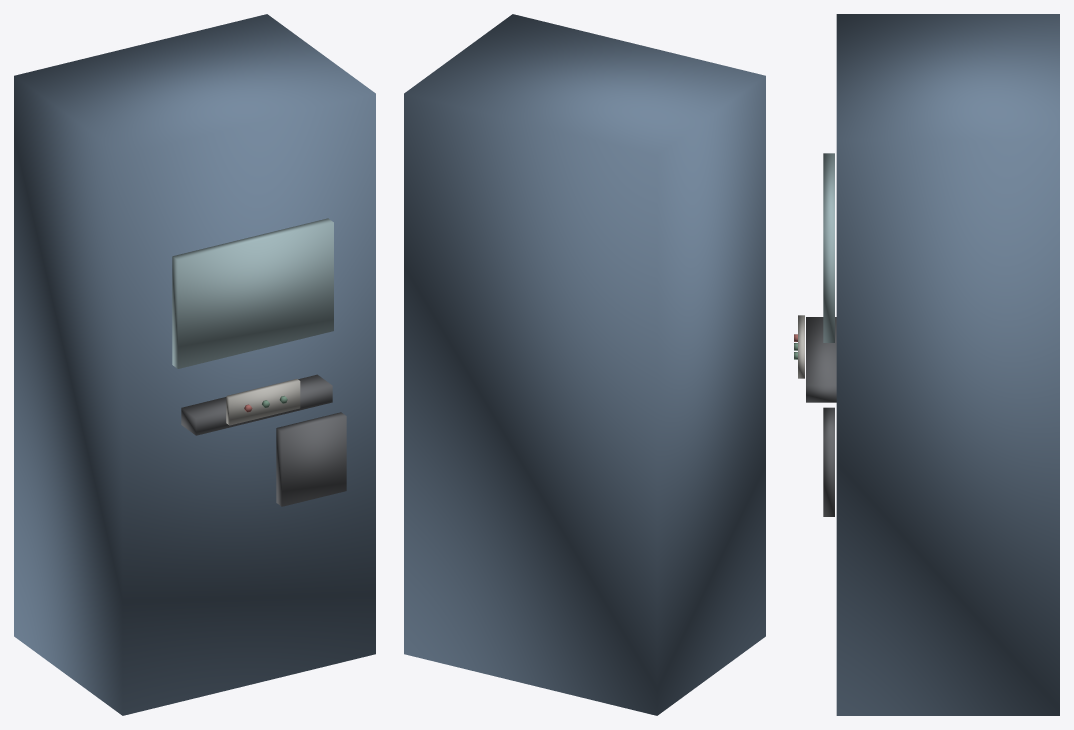
Rendered from atm.glb.
The picture shows the model from 3 angles, left to right: view 1: azimuth 30°, elevation 25°; view 2: azimuth 150°, elevation 25°; view 3: azimuth 270°, elevation 25°; orthographic projection. The views are drawn at different scales.
Parts seen in each view (by area): view 1: world; view 2: world; view 3: world.
Part boxes in pixels (box(x1,y1,x2,y2)): world: box(14, 14, 375, 715); world: box(404, 14, 765, 715); world: box(794, 14, 1059, 715).
Bounding box in the file's own units: 0.78 × 1.65 × 0.691.
